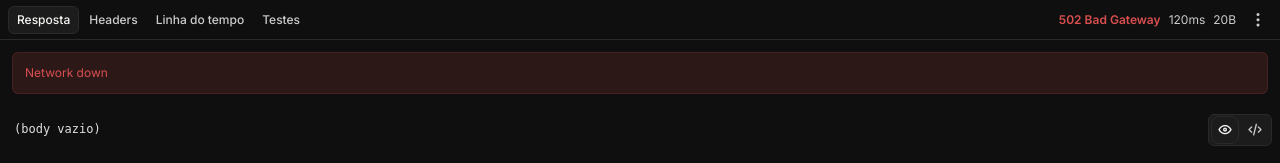
ResponsePane › shows the error of a send, the empty body in raw view, and no headers
expect the message reads "Network down": met, box [25,65,108,80]
Step 1. Click the button named "Código" → (1255, 130), box [1241,116,1269,144]
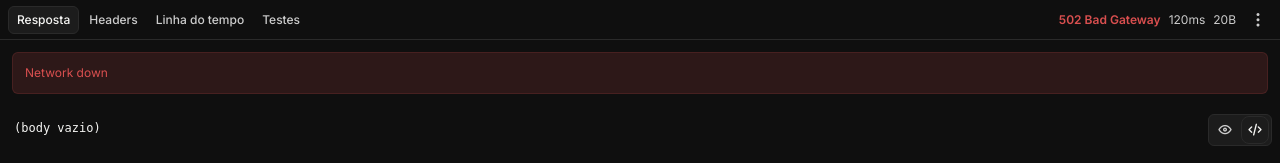
expect the text "(body vazio)" is shown: met, box [14,121,101,135]
Step 2. Click the tab "Headers" → (113, 20), box [81,6,146,34]
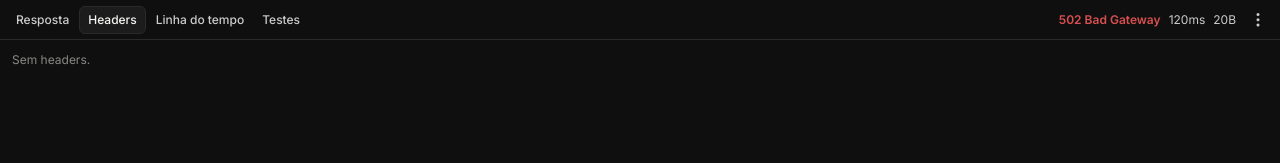
expect the text "Sem headers." is shown: met, box [12,52,90,67]
